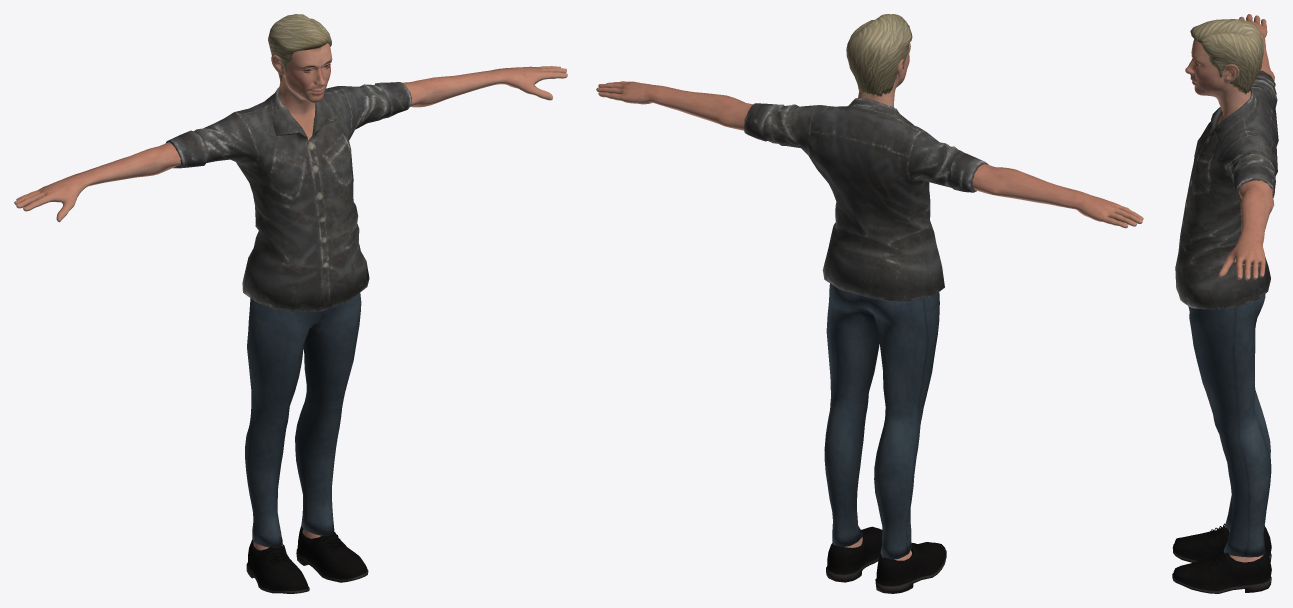
Rendered from Zag.obj.
3 views of the same model, side by side, from view 1: azimuth 30°, elevation 25°; view 2: azimuth 150°, elevation 25°; view 3: azimuth 270°, elevation 25° (orthographic).
Parts seen in each view (by area): view 1: Tops, Bottoms, Body, Shoes, Hair; view 2: Tops, Bottoms, Body, Shoes, Hair; view 3: Tops, Bottoms, Body, Shoes, Hair.
Boxes of the visible parts, left/top/right/bottom form: Tops: left=166, top=82, right=411, bottom=312; Bottoms: left=245, top=287, right=361, bottom=547; Body: left=14, top=43, right=567, bottom=550; Shoes: left=246, top=526, right=368, bottom=593; Hair: left=268, top=14, right=331, bottom=82; Tops: left=744, top=98, right=988, bottom=301; Bottoms: left=824, top=283, right=939, bottom=559; Body: left=596, top=43, right=1143, bottom=560; Shoes: left=826, top=526, right=946, bottom=593; Hair: left=846, top=14, right=912, bottom=96; Tops: left=1175, top=70, right=1278, bottom=309; Bottoms: left=1188, top=294, right=1271, bottom=557; Body: left=1185, top=14, right=1274, bottom=562; Shoes: left=1172, top=523, right=1271, bottom=593; Hair: left=1190, top=19, right=1263, bottom=94.
Size of the model in its own units: 187 by 181 by 31.53.
1 material, 1 textured.
